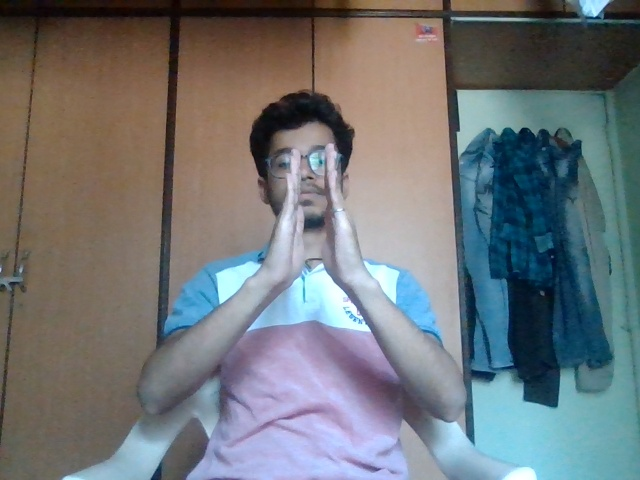morning: (264, 138, 368, 287)
